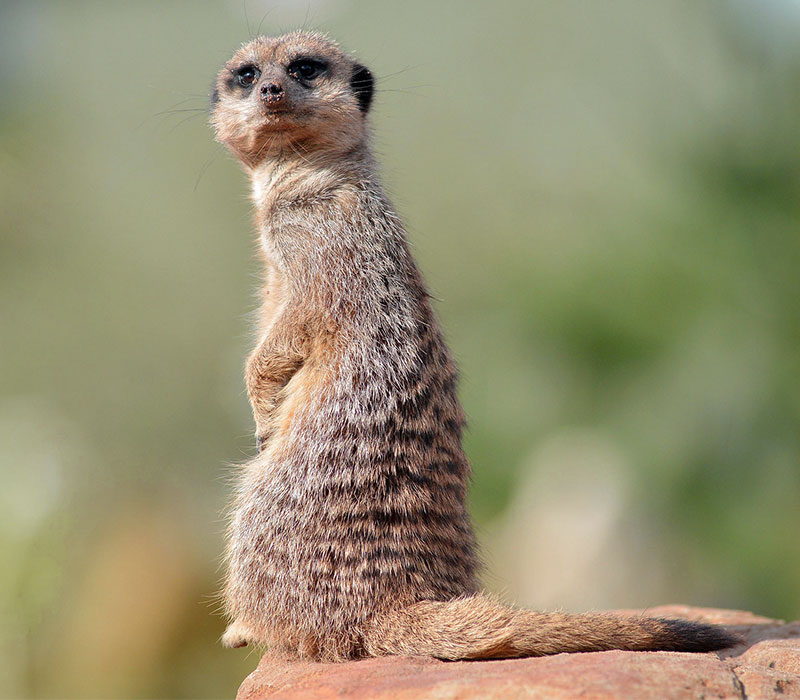meerkat: (200, 18, 754, 660)
